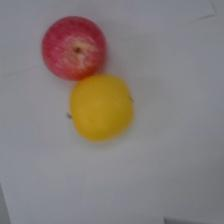red: (41, 16, 106, 80)
yellow: (67, 74, 134, 143)
